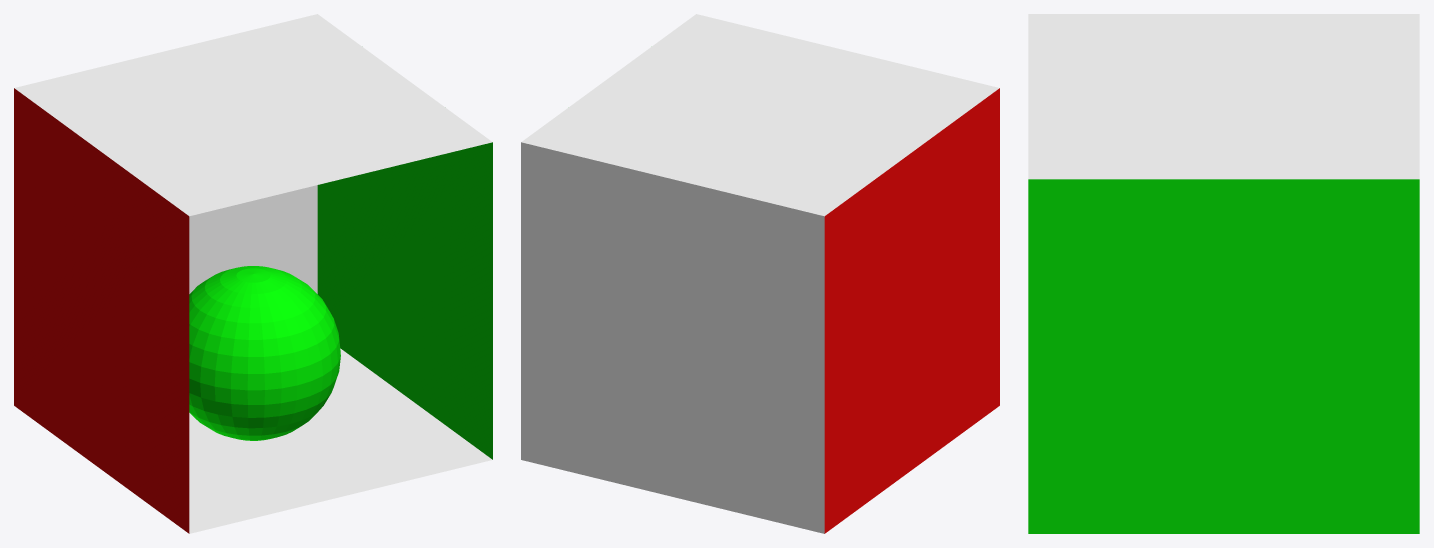
Rendered from my_Cornell_Box_2.obj.
3 views of the same model, side by side, from view 1: azimuth 30°, elevation 25°; view 2: azimuth 150°, elevation 25°; view 3: azimuth 270°, elevation 25° (orthographic). The views are drawn at different scales.
Parts seen in each view (by area): view 1: Plane.004, Plane, Plane.003, Plane.001, Sphere, Plane.002; view 2: Plane.002, Plane.004, Plane; view 3: Plane.003, Plane.
Boxes of the visible parts, <box> form: Plane.004: <box>14,88,189,533</box>; Plane: <box>14,14,492,216</box>; Plane.003: <box>317,142,492,459</box>; Plane.001: <box>189,348,492,533</box>; Sphere: <box>189,266,340,440</box>; Plane.002: <box>189,185,317,293</box>; Plane.002: <box>521,142,824,533</box>; Plane.004: <box>824,88,999,533</box>; Plane: <box>521,14,999,216</box>; Plane.003: <box>1028,179,1419,533</box>; Plane: <box>1028,14,1419,179</box>.
Bounding box in the file's own units: 4 × 4 × 4.
